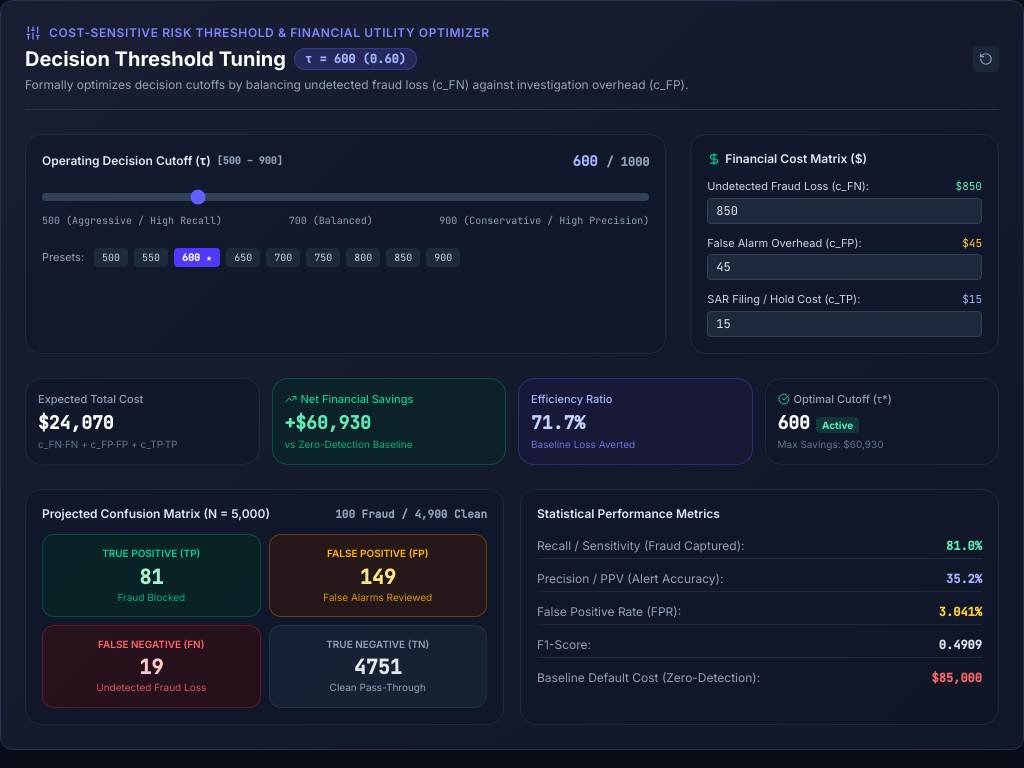
ThresholdTuningSlider Component Test Suite › selects threshold via preset buttons
# Click 800 preset
Click the button "800" at (363, 258), box [346,248,380,267]
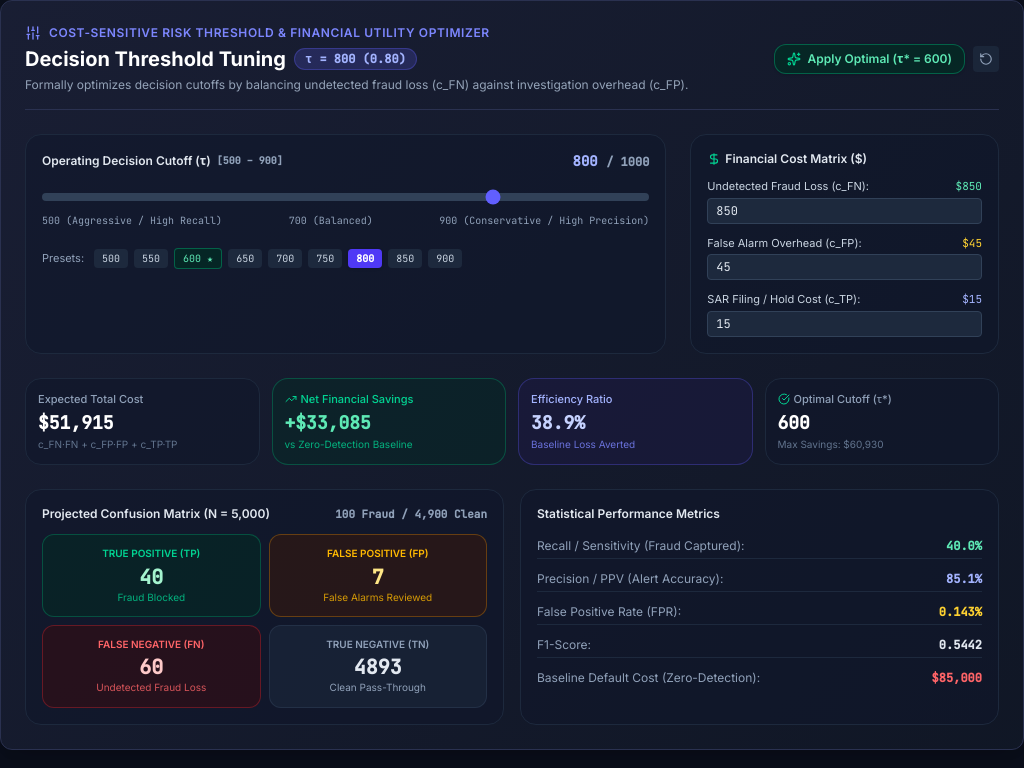
expect the text "τ = 800 (0.80)" is shown: met, box [294,48,417,70]
